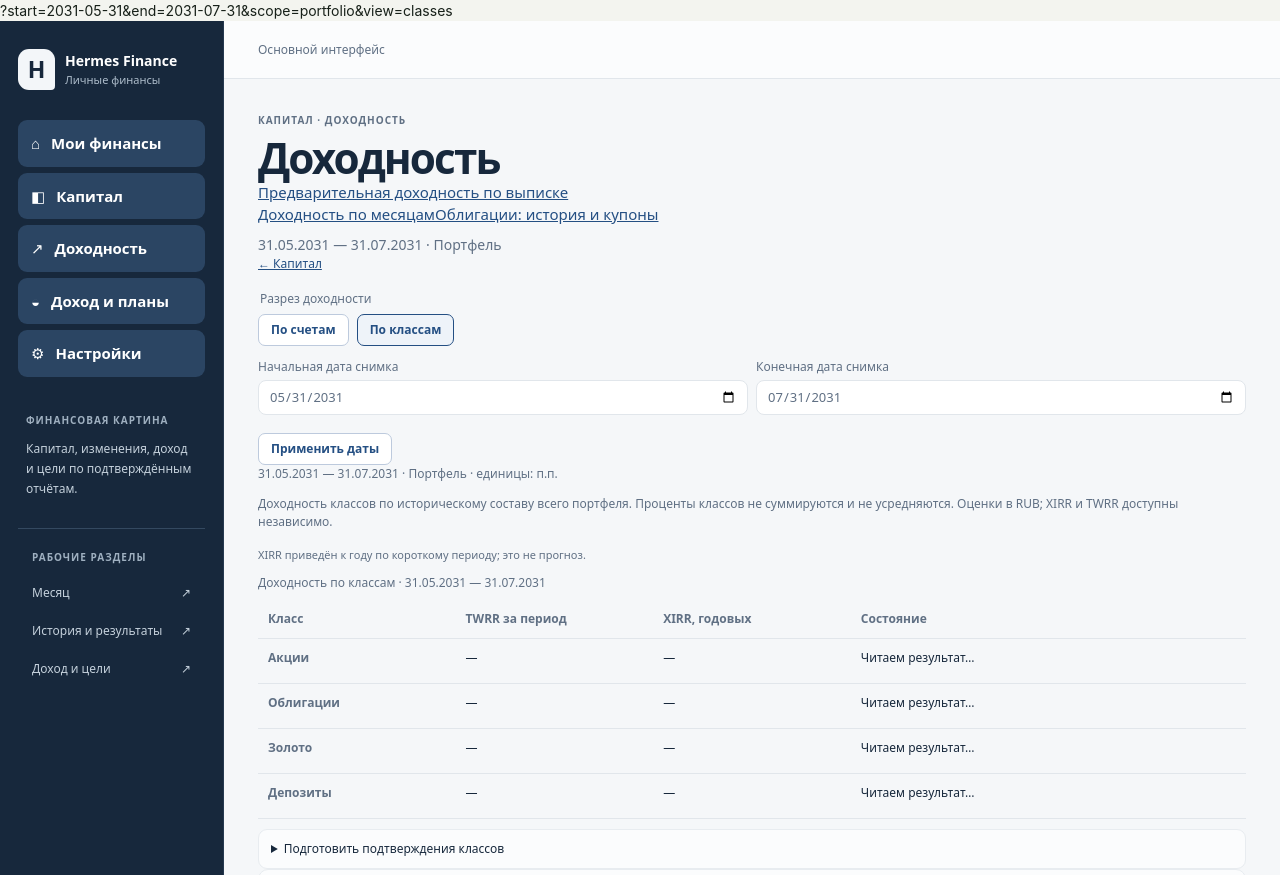
it: class returns in existing Performance detail › hides old values during a period change and ignores delayed old responses
Type "2031-06-30" into the date field labelled "Начальная дата снимка". click: coordinates (503, 397)
box: [258, 380, 748, 415]
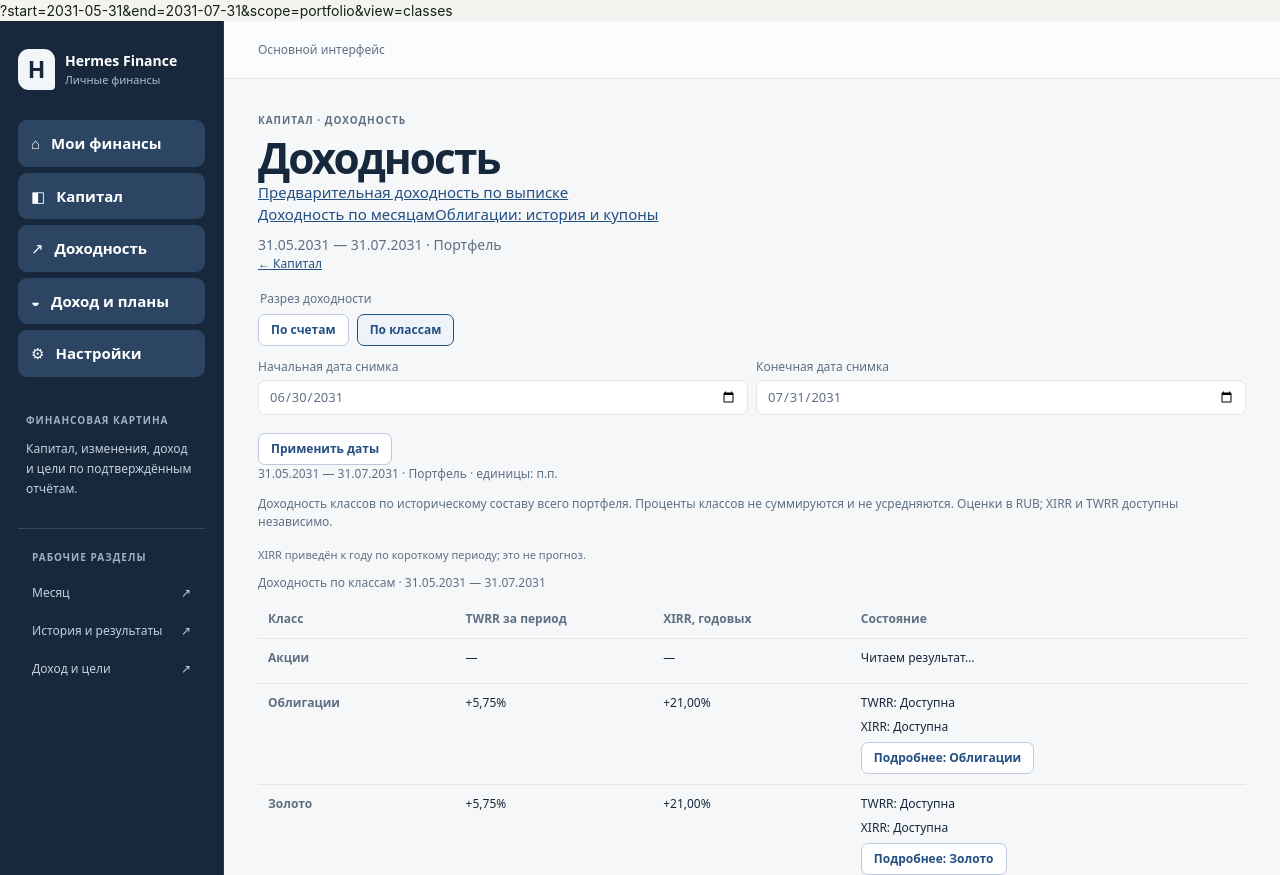
Click the button "Применить даты". click: coordinates (325, 449)
box: [258, 433, 392, 465]
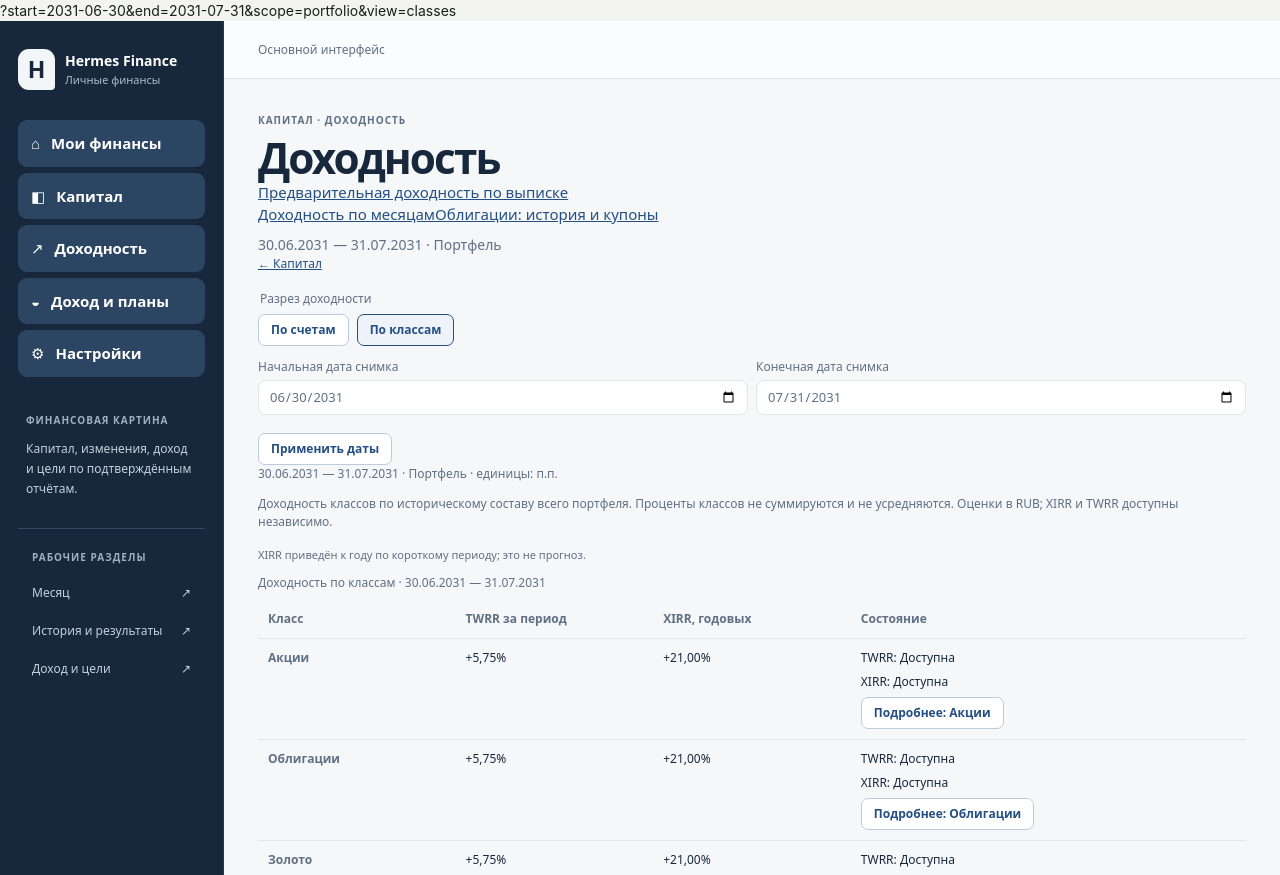
Expected: the row with test id "class-return-stock" does not show "10,12%", [258, 638, 1246, 739]
Expected: the row with test id "class-return-stock" shows "+21,00%", [663, 649, 711, 666]
